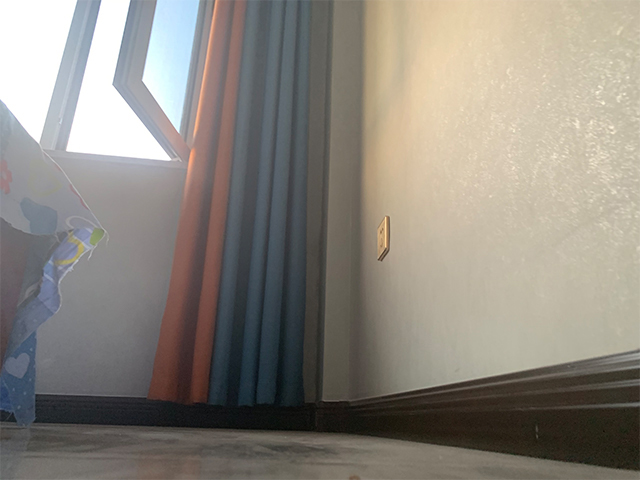curtain: (145, 1, 315, 409)
